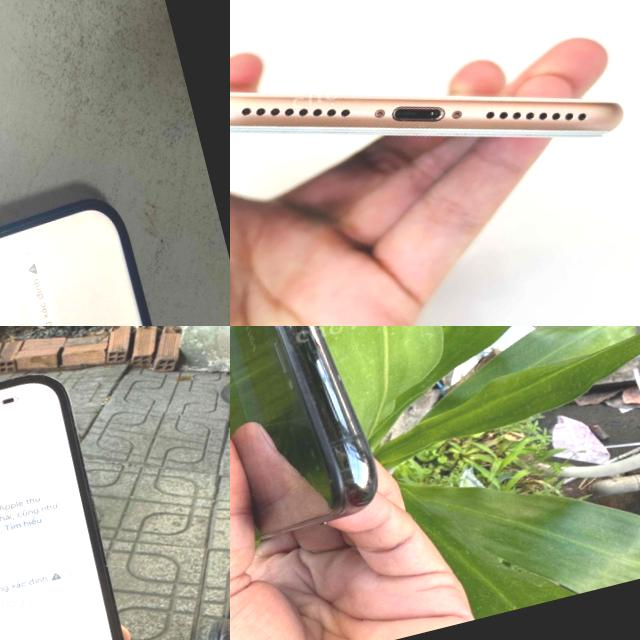gen_14: (0, 354, 171, 640)
gen_15: (0, 194, 199, 326)
gen_7_8: (230, 0, 634, 252)
gen_x_xs: (230, 326, 420, 560)
